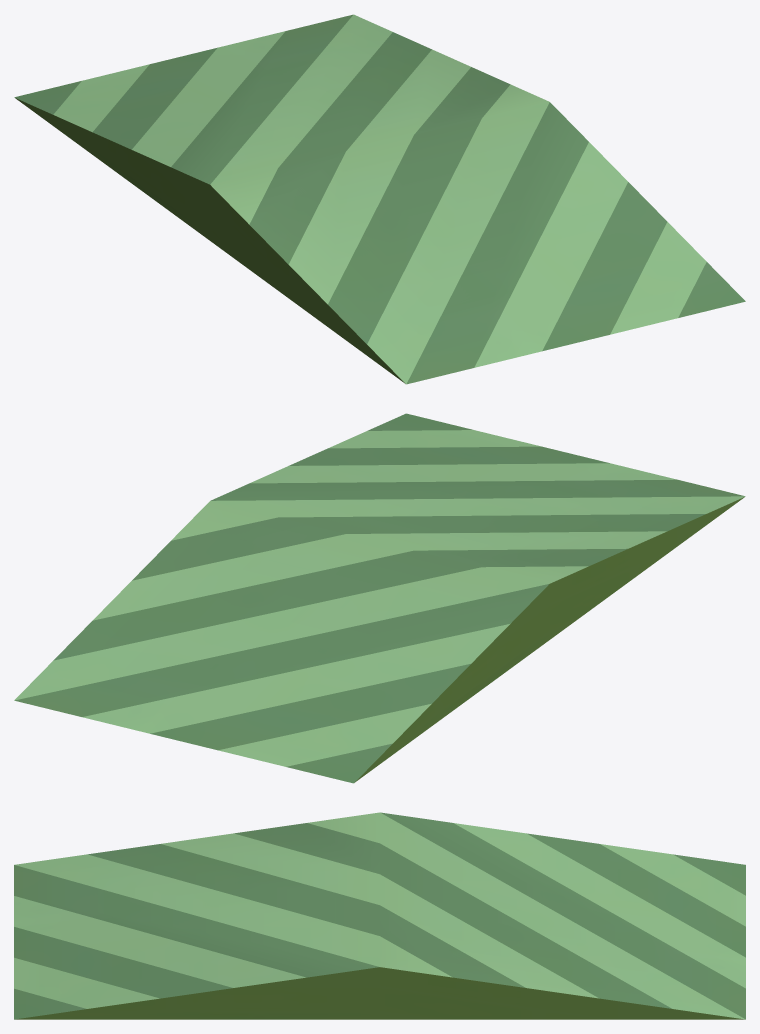
The picture shows the model from 3 angles, top to bottom: view 1: azimuth 30°, elevation 25°; view 2: azimuth 150°, elevation 25°; view 3: azimuth 270°, elevation 25°; orthographic projection. The views are drawn at different scales.
Parts seen in each view (by area): view 1: Cube_008; view 2: Cube_008; view 3: Cube_008.
Boxes of the visible parts, x1=… form: Cube_008: x1=14, y1=14, x2=745, y2=384; Cube_008: x1=14, y1=413, x2=745, y2=783; Cube_008: x1=14, y1=812, x2=745, y2=1019.
Bounding box in the file's own units: 24 × 3.79 × 48.
